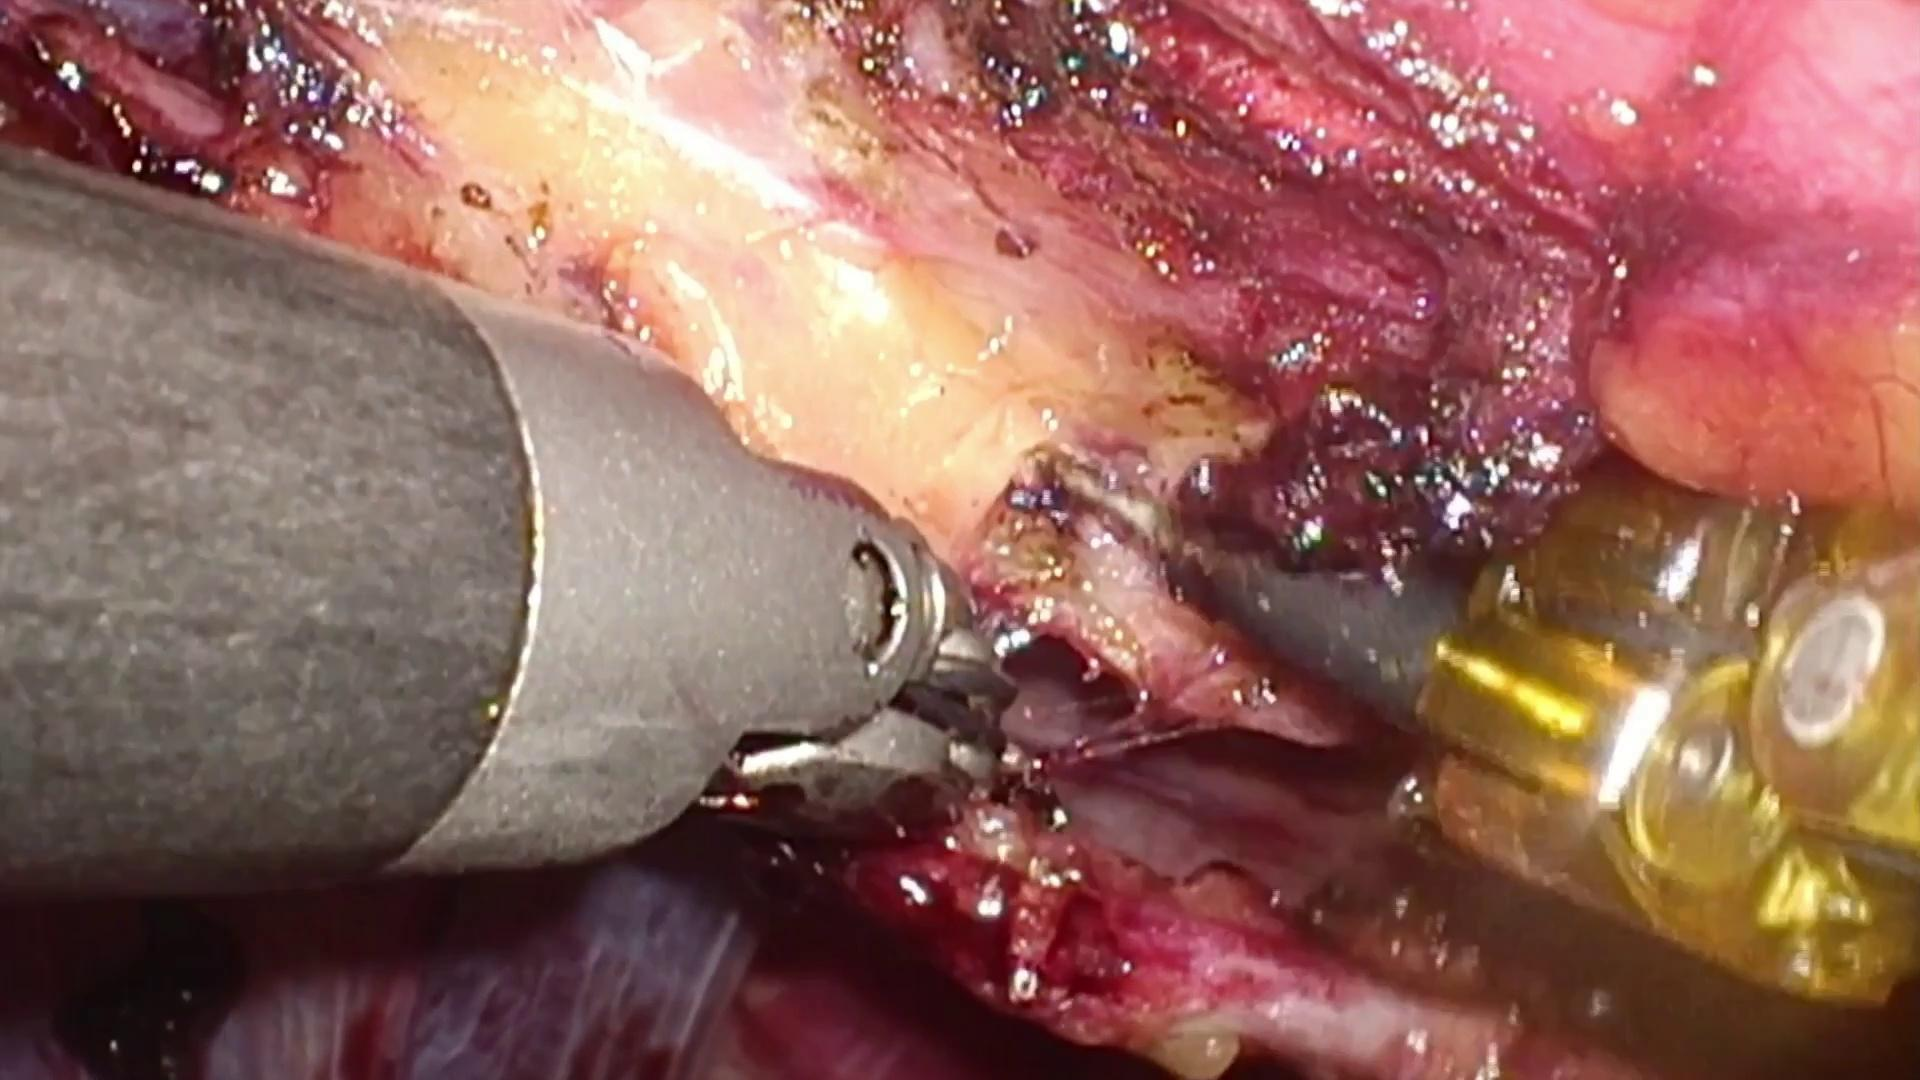Cautery_Spatula: (1044, 456, 1470, 749)
Debakey: (920, 736, 1043, 839)
